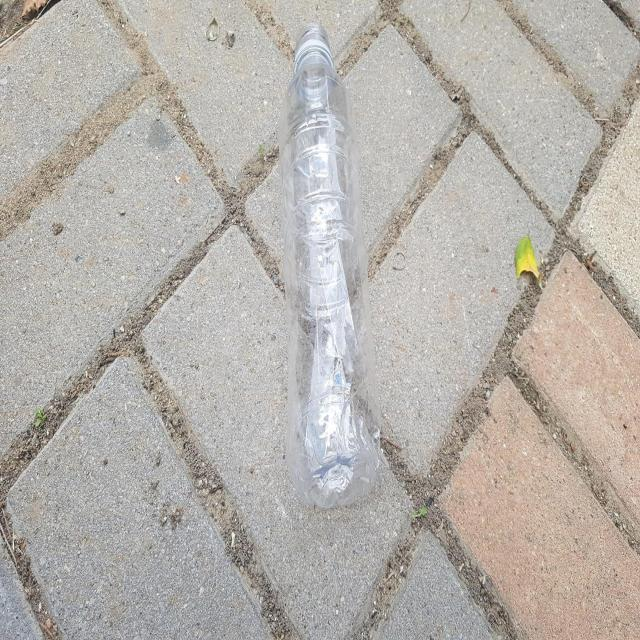plastic: (280, 21, 383, 508)
